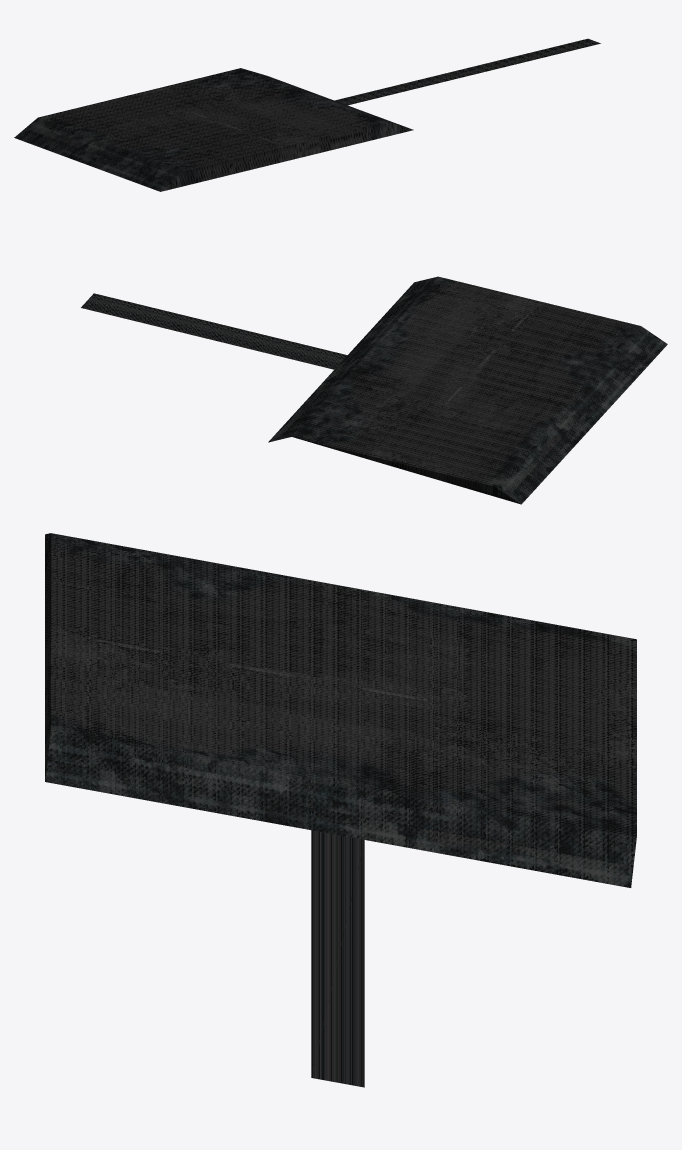
Rendered from NoCars.glb.
3 views of the same model, one above another, from view 1: azimuth 30°, elevation 25°; view 2: azimuth 150°, elevation 25°; view 3: azimuth 270°, elevation 25° (orthographic). The views are drawn at different scales.
Parts seen in each view (by area): view 1: road2.002, road2.004; view 2: road2.002, road2.004; view 3: road2.002, road2.004.
Boxes of the visible parts, left/top/right/bottom form: road2.002: left=14, top=68, right=413, bottom=191; road2.004: left=335, top=38, right=600, bottom=105; road2.002: left=268, top=276, right=667, bottom=504; road2.004: left=81, top=293, right=347, bottom=369; road2.002: left=45, top=533, right=636, bottom=887; road2.004: left=311, top=830, right=364, bottom=1087.
Bounding box in the file's own units: 20 × 2.49 × 10.1.
1 material, 1 textured.
